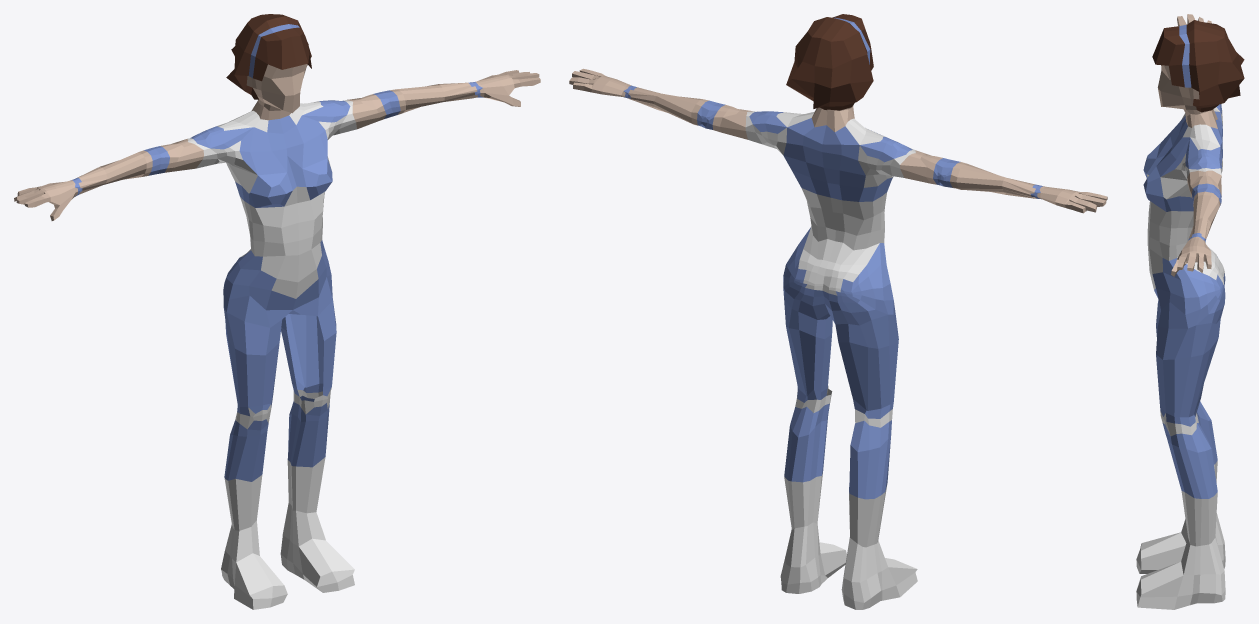
File: MBLU.fbx
3 views of the same model, side by side, from view 1: azimuth 30°, elevation 25°; view 2: azimuth 150°, elevation 25°; view 3: azimuth 270°, elevation 25° (orthographic). The views are drawn at different scales.
Visible parts, largest first — view 1: Cube.000, Cube.002; view 2: Cube.000, Cube.002; view 3: Cube.000, Cube.002.
Boxes of the visible parts, box(x1,y1,x2,y2) form: Cube.000: box(221, 240, 354, 609); Cube.002: box(14, 14, 540, 256); Cube.000: box(780, 226, 917, 609); Cube.002: box(569, 14, 1107, 250); Cube.000: box(1136, 244, 1225, 609); Cube.002: box(1143, 14, 1244, 276).
Size of the model in its own units: 196 by 202 by 35.24.
